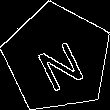N_NW: (28, 27, 87, 90)
